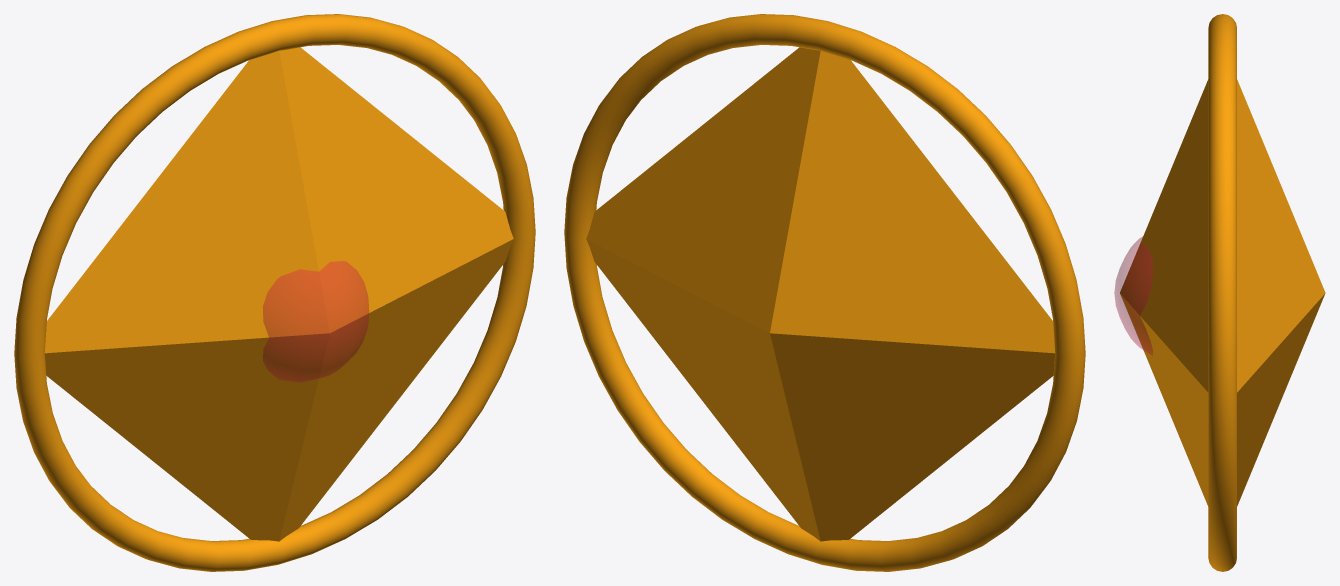
Rendered from star.glb.
3 views of the same model, side by side, from view 1: azimuth 30°, elevation 25°; view 2: azimuth 150°, elevation 25°; view 3: azimuth 270°, elevation 25° (orthographic). The views are drawn at different scales.
Parts seen in each view (by area): view 1: StarModel; view 2: StarModel; view 3: StarModel.
Boxes of the visible parts, x1=… form: StarModel: x1=14, y1=14, x2=535, y2=571; StarModel: x1=564, y1=14, x2=1085, y2=571; StarModel: x1=1114, y1=14, x2=1325, y2=571.
Size of the model in its own units: 2.32 by 2.32 by 0.8775.
